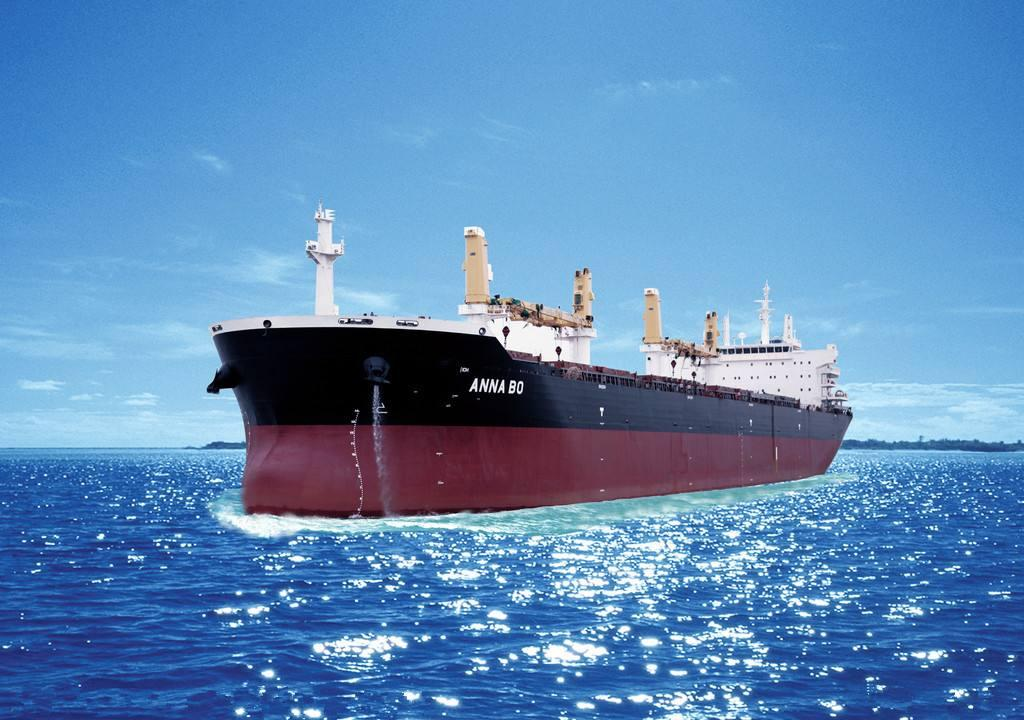Cargoship: (208, 204, 872, 538)
